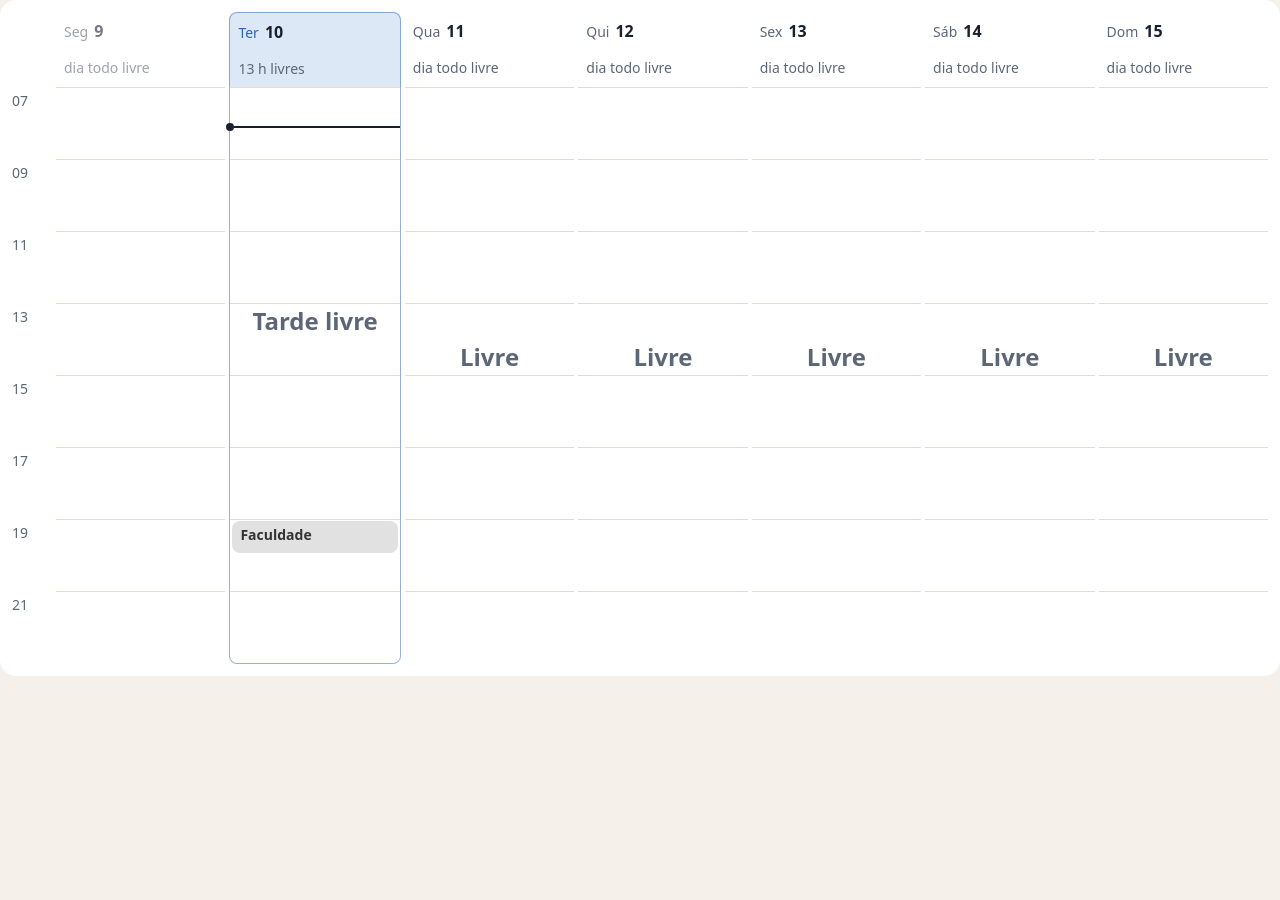
Scenario: WeekGrid: dia aberto › Esc fecha o dia, mas com o diálogo da sessão aberto fecha só o diálogo
The width and height of the screenshot is (1280, 900).
Later steps or results of the test are not shown.
Click the button named "Abrir terça, 10 de novembro, hoje" at (315, 50), box [229,12,401,87]
(page scrolled)
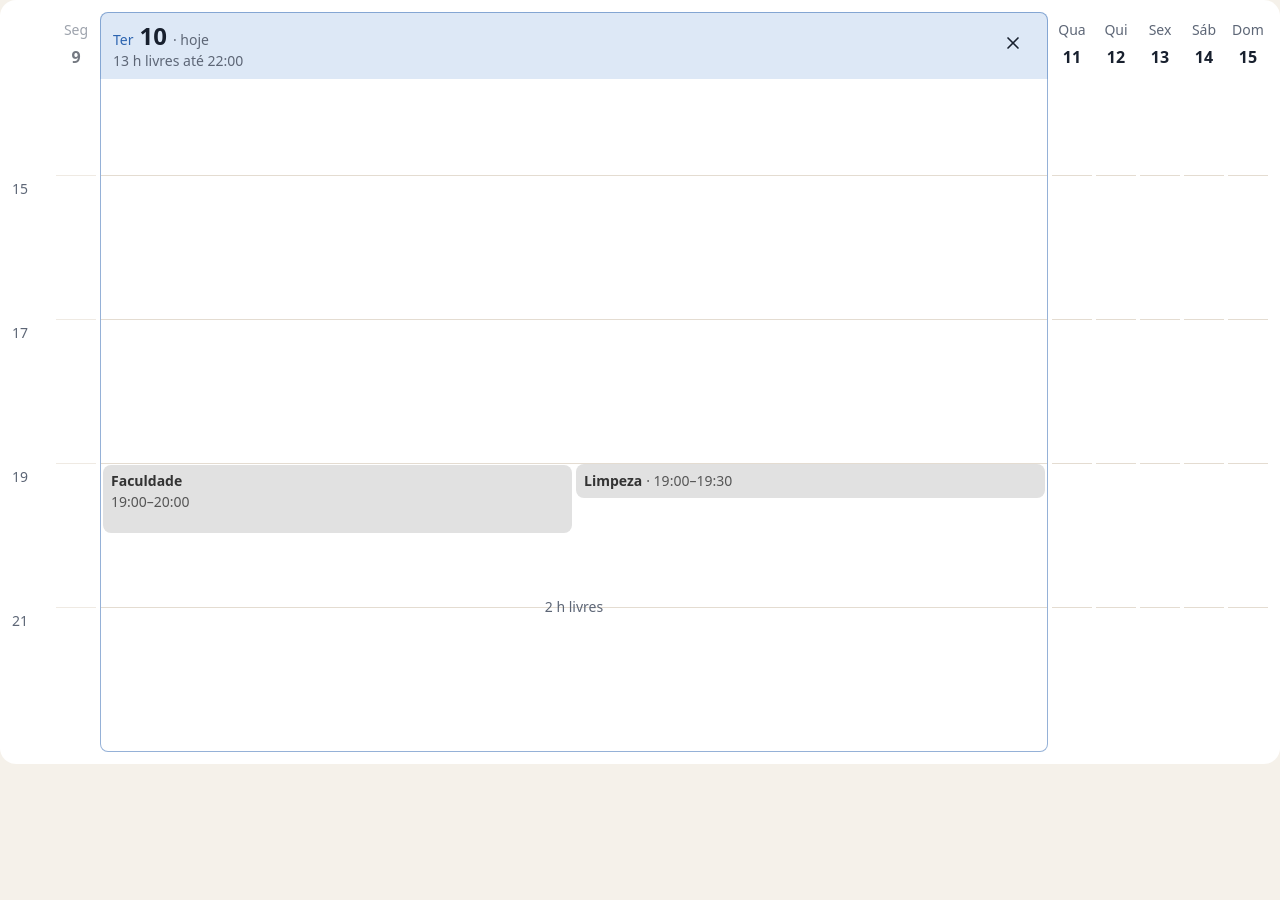
Click the button named "Faculdade, Estudos" at (338, 499), box [103,465,572,533]
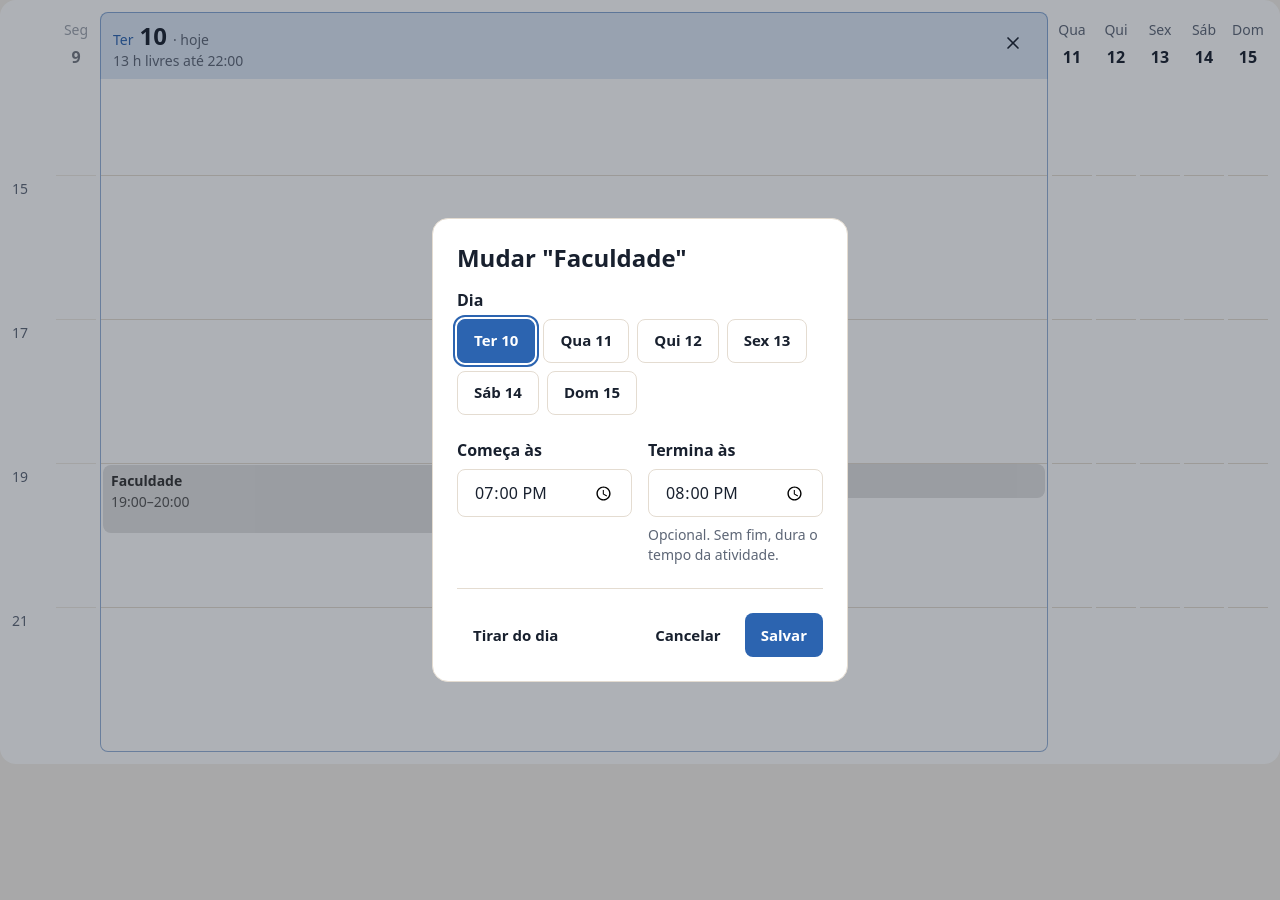
Press Escape in the time field labelled "Começa às", box [457,469,632,517]
Now the element that starts with "11 h livres" is shown
